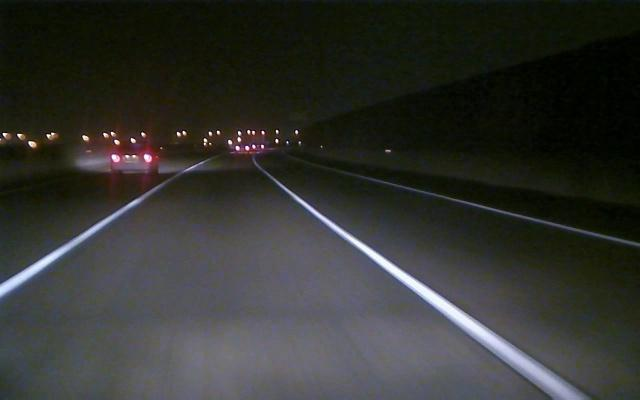lane: (277, 181, 592, 399), (1, 162, 202, 297), (345, 170, 640, 249)
